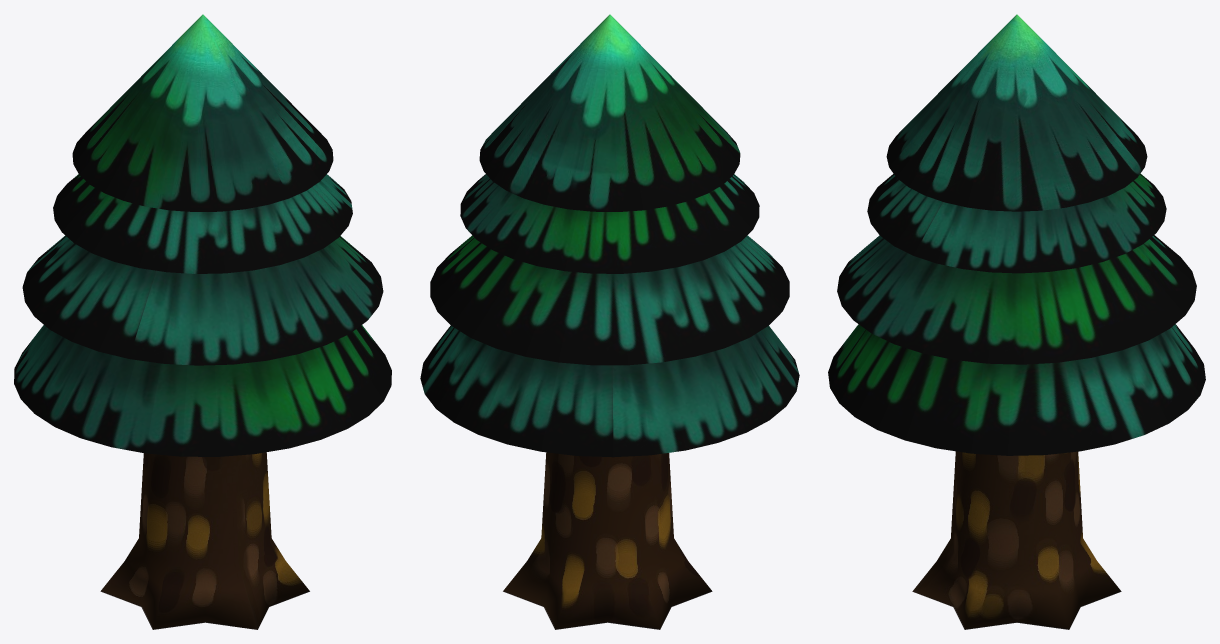
The model's file is sapin.glb.
3 views of the same model, side by side, from view 1: azimuth 30°, elevation 25°; view 2: azimuth 150°, elevation 25°; view 3: azimuth 270°, elevation 25° (orthographic).
Visible parts, largest first — view 1: Full Grow.003_7; view 2: Full Grow.003_7; view 3: Full Grow.003_7.
Part boxes in pixels (x1,y1,x2,y2): Full Grow.003_7: (14, 14, 391, 629); Full Grow.003_7: (420, 14, 799, 629); Full Grow.003_7: (828, 14, 1205, 629).
Bounding box in the file's own units: 2.19 × 3.69 × 2.19.
Materials: 1 (1 with a texture image).
